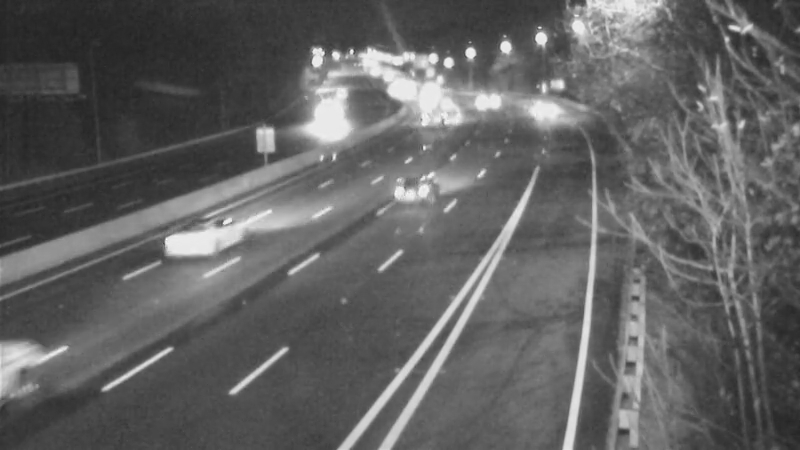vehicle: (378, 155, 458, 235), (155, 206, 235, 286), (403, 69, 453, 119), (463, 75, 513, 125), (509, 82, 559, 132), (403, 85, 453, 135), (299, 93, 349, 143)
